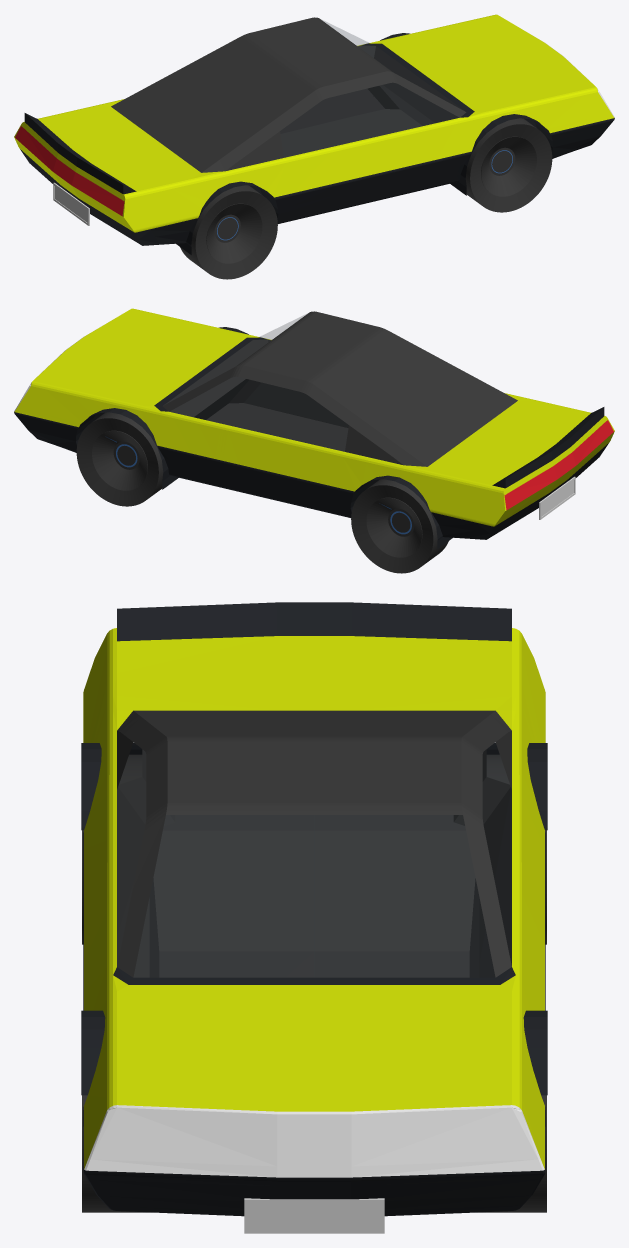
The model's file is ControlVehicle.glb.
3 views of the same model, one above another, from view 1: azimuth 30°, elevation 25°; view 2: azimuth 150°, elevation 25°; view 3: azimuth 270°, elevation 25° (orthographic). The views are drawn at different scales.
Parts seen in each view (by area): view 1: ControlVehicle — paint / glass / plastic, Tyre RR, Tyre FR; view 2: ControlVehicle — paint / glass / plastic, Tyre RL, Tyre FL; view 3: ControlVehicle — paint / glass / plastic, Tyre FL, Tyre FR.
Boxes of the visible parts, bbox=[...] form: ControlVehicle — paint / glass / plastic: bbox=[14, 14, 614, 254]; Tyre RR: bbox=[180, 185, 277, 279]; Tyre FR: bbox=[465, 118, 552, 212]; ControlVehicle — paint / glass / plastic: bbox=[14, 308, 614, 548]; Tyre RL: bbox=[351, 479, 448, 573]; Tyre FL: bbox=[76, 412, 163, 506]; ControlVehicle — paint / glass / plastic: bbox=[81, 602, 547, 1233]; Tyre FL: bbox=[478, 1095, 546, 1212]; Tyre FR: bbox=[82, 1095, 150, 1212].
Bounding box in the file's own units: 6.22 × 1.77 × 2.5.
